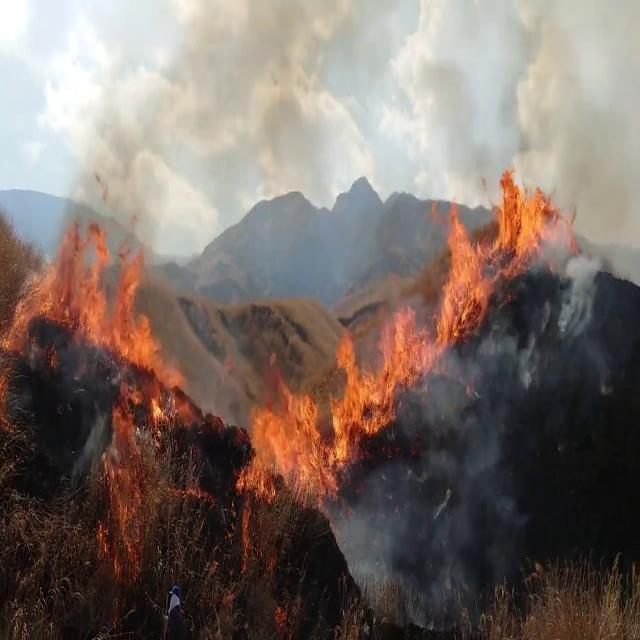Fire: (2, 208, 188, 420), (433, 156, 561, 353), (330, 291, 441, 465), (235, 367, 337, 509)
Smoke: (336, 332, 636, 626), (67, 0, 389, 211), (334, 348, 536, 626), (404, 0, 610, 198)
